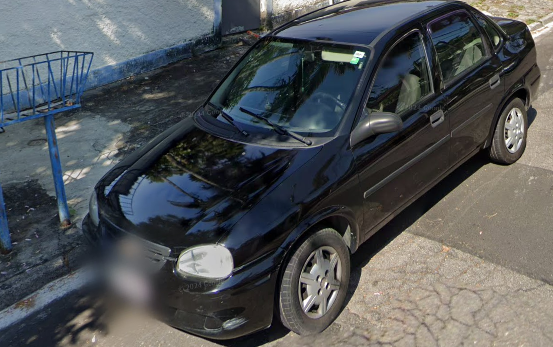car: (89, 2, 543, 341)
